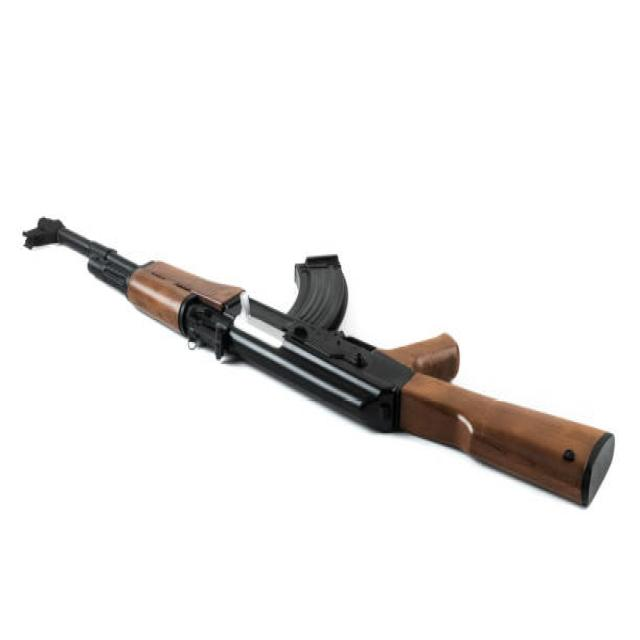rifle: (20, 200, 624, 524)
